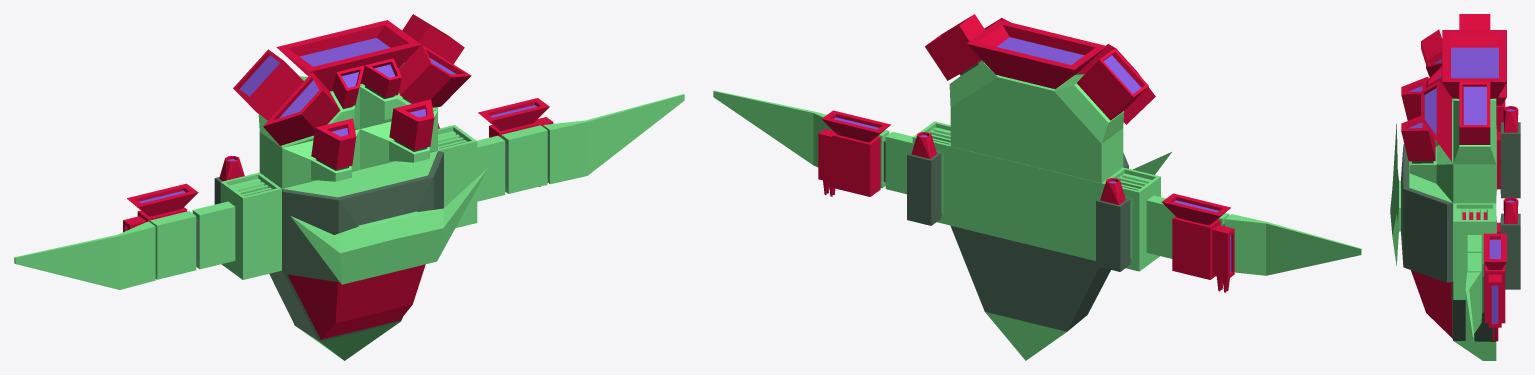
Rendered from SpaceshipWithTextures.glb.
The picture shows the model from 3 angles, left to right: view 1: azimuth 30°, elevation 25°; view 2: azimuth 150°, elevation 25°; view 3: azimuth 270°, elevation 25°; orthographic projection. The views are drawn at different scales.
Parts seen in each view (by area): view 1: EngineMesh, HeadMesh, WingMesh, WeaponMesh; view 2: EngineMesh, HeadMesh, WingMesh, WeaponMesh; view 3: EngineMesh, HeadMesh, WeaponMesh, WingMesh.
Boxes of the visible parts, <box> form: EngineMesh: <box>233,14,471,188</box>; HeadMesh: <box>259,151,488,360</box>; WingMesh: <box>14,94,684,289</box>; WeaponMesh: <box>214,123,477,279</box>; EngineMesh: <box>925,14,1155,182</box>; HeadMesh: <box>950,146,1171,360</box>; WingMesh: <box>713,90,1361,292</box>; WeaponMesh: <box>907,121,1160,271</box>; EngineMesh: <box>1401,14,1506,203</box>; HeadMesh: <box>1390,123,1496,360</box>; WeaponMesh: <box>1453,106,1520,299</box>; WingMesh: <box>1465,83,1506,342</box>.
Size of the model in its own units: 0.1715 by 0.08 by 0.0303.
1 material, 1 textured.
